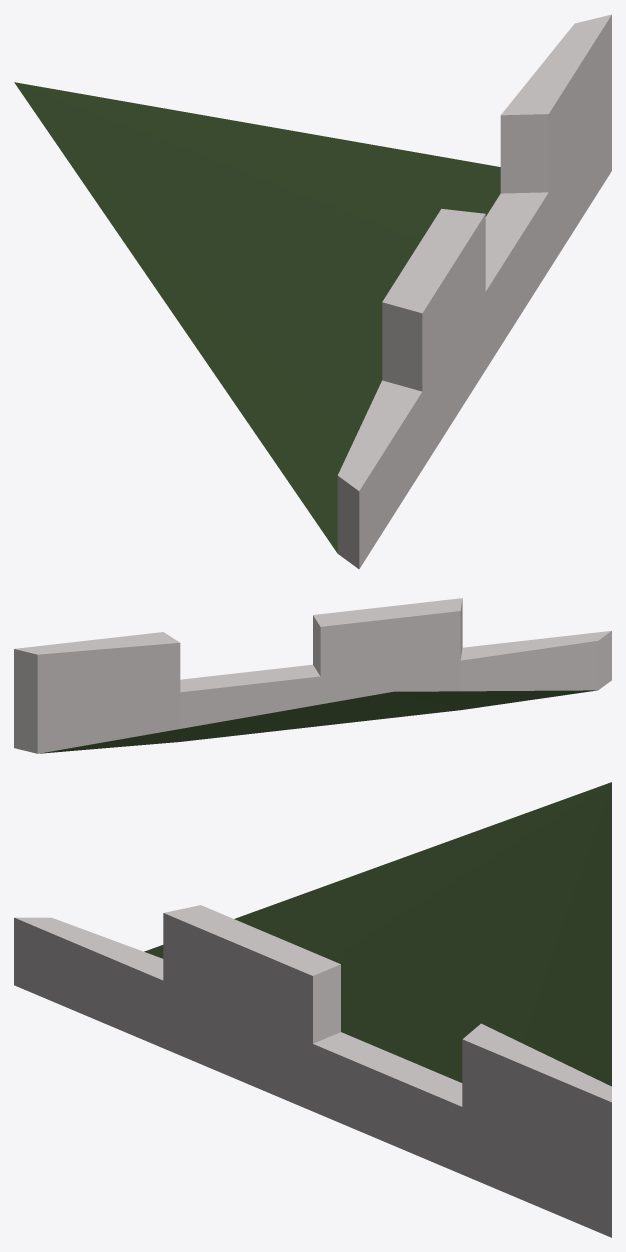
Rendered from model_loc_1669_s.obj.
The picture shows the model from 3 angles, top to bottom: view 1: azimuth 30°, elevation 25°; view 2: azimuth 150°, elevation 25°; view 3: azimuth 270°, elevation 25°; orthographic projection. The views are drawn at different scales.
Parts seen in each view (by area): view 1: 1971; view 2: 1971; view 3: 1971.
Boxes of the visible parts, <box> form: 1971: <box>14,14,611,568</box>; 1971: <box>14,598,611,753</box>; 1971: <box>14,782,611,1237</box>.
Size of the model in its own units: 128 by 48 by 128.
